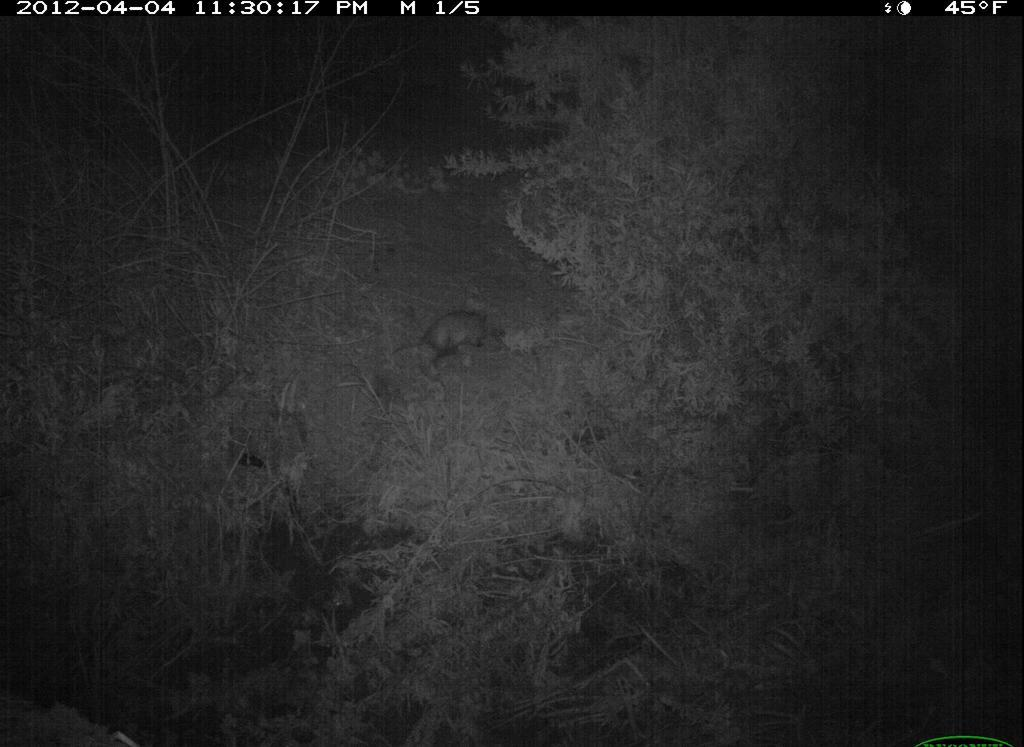opossum: (382, 297, 508, 376)
